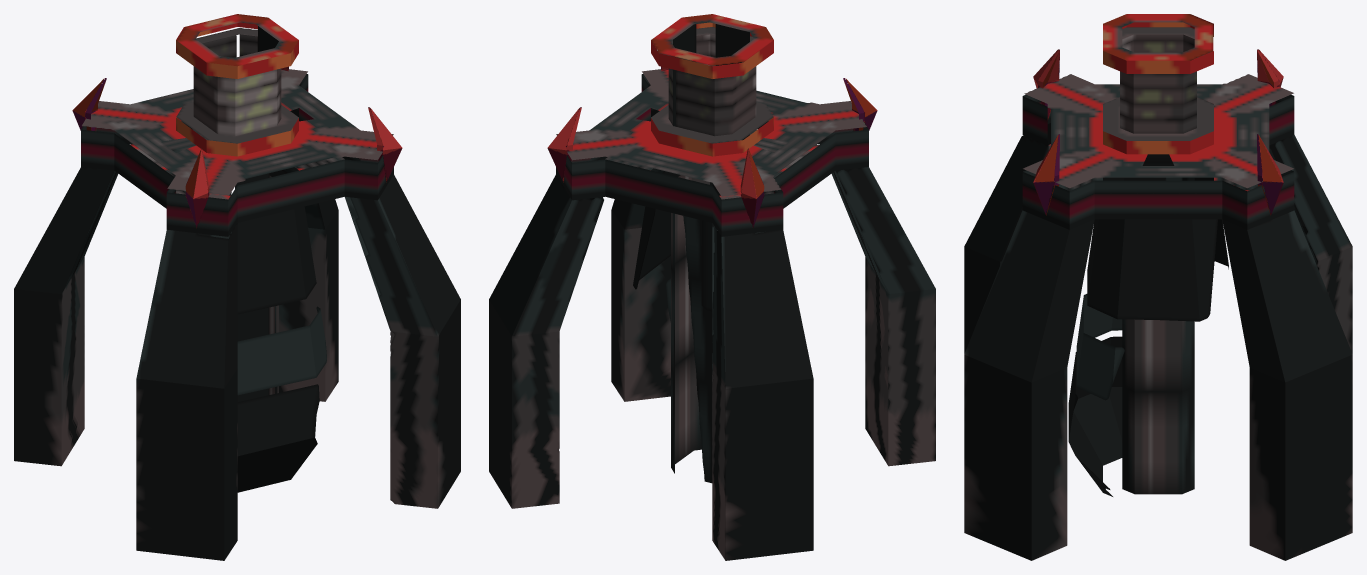
The model's file is B_Iron_Mine.fbx.
3 views of the same model, side by side, from view 1: azimuth 30°, elevation 25°; view 2: azimuth 150°, elevation 25°; view 3: azimuth 270°, elevation 25° (orthographic). The views are drawn at different scales.
Visible parts, largest first — view 1: B_Iron_Mine_Factory, B_Mithril_Factory_Spike; view 2: B_Iron_Mine_Factory, B_Mithril_Factory_Spike; view 3: B_Iron_Mine_Factory, B_Mithril_Factory_Spike.
Boxes of the visible parts, bbox=[...] form: B_Iron_Mine_Factory: bbox=[14, 14, 460, 560]; B_Mithril_Factory_Spike: bbox=[72, 66, 402, 227]; B_Iron_Mine_Factory: bbox=[489, 14, 935, 560]; B_Mithril_Factory_Spike: bbox=[547, 66, 877, 227]; B_Iron_Mine_Factory: bbox=[964, 14, 1352, 560]; B_Mithril_Factory_Spike: bbox=[1033, 49, 1283, 215].
Size of the model in its own units: 63.91 by 80.28 by 63.95.
Materials: 1 (1 with a texture image).
